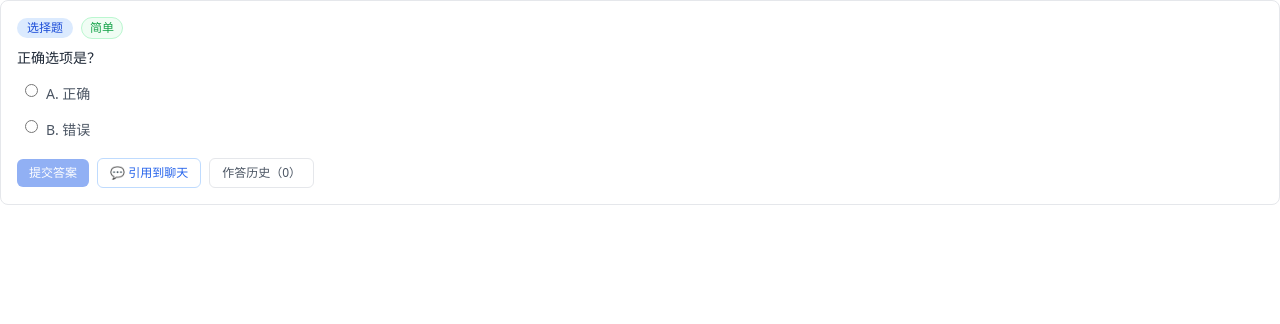
Test: submits an answer and shows grading plus progress feedback
Click the radio button labelled "A. 正确".
click(32, 90)  # box top-left (25, 84), bottom-right (38, 97)
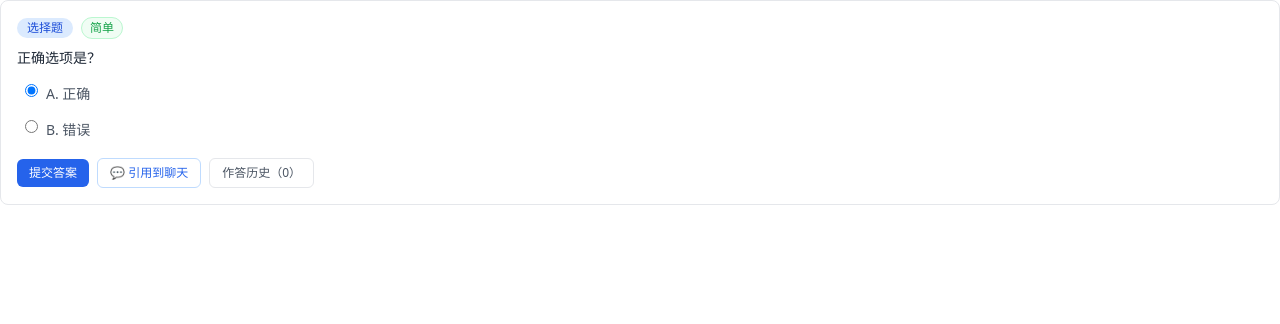
Click the button labelled "提交答案".
click(53, 173)  # box top-left (17, 159), bottom-right (89, 187)
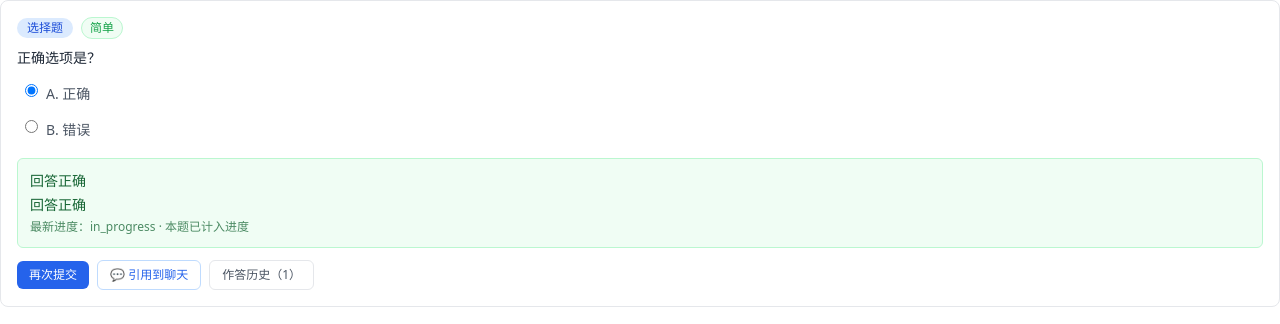
Now the 1st text "回答正确" is shown, box top-left (30, 171), bottom-right (86, 190)
Now the text "最新进度：in_progress · 本题已计入进度" is shown, box top-left (30, 218), bottom-right (249, 235)
